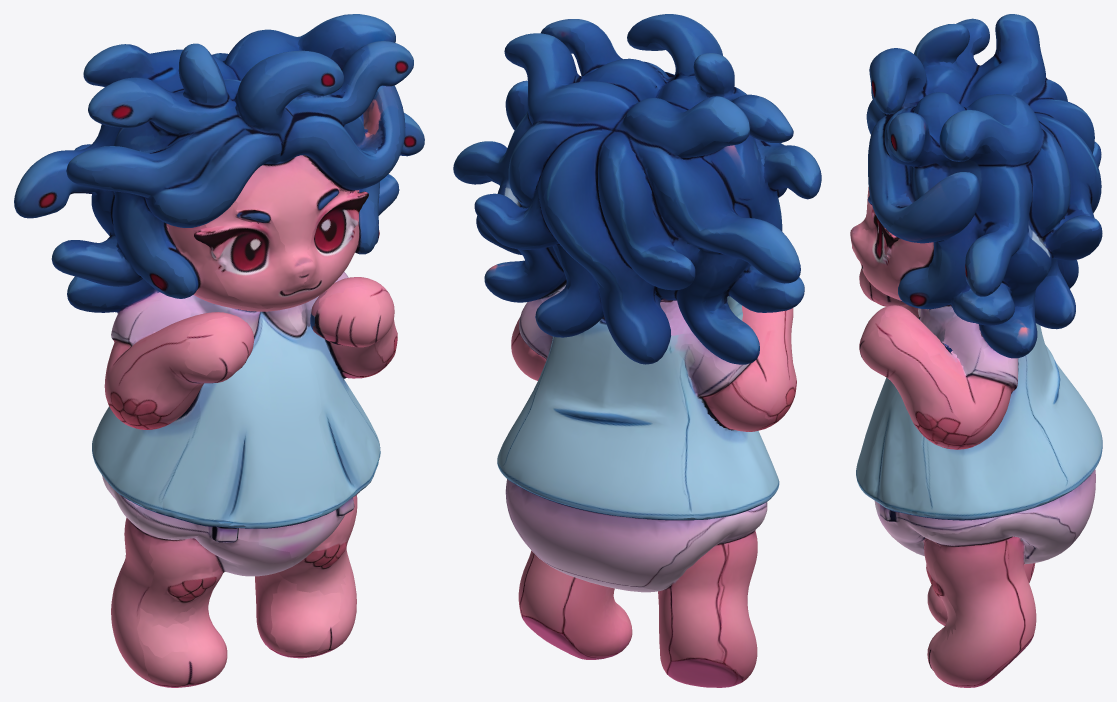
File: hexiadoll.glb
3 renders of one model, left to right at view 1: azimuth 30°, elevation 25°; view 2: azimuth 150°, elevation 25°; view 3: azimuth 270°, elevation 25°, orthographic. The views are drawn at different scales.
Visible parts, largest first — view 1: temp_mesh.ply; view 2: temp_mesh.ply; view 3: temp_mesh.ply.
Boxes of the visible parts, x1,y1,x2,y2 form: temp_mesh.ply: [14, 14, 424, 687]; temp_mesh.ply: [453, 14, 821, 687]; temp_mesh.ply: [850, 14, 1102, 687].
Bounding box in the file's own units: 1.23 × 1.97 × 0.7503.
1 material, 1 textured.
